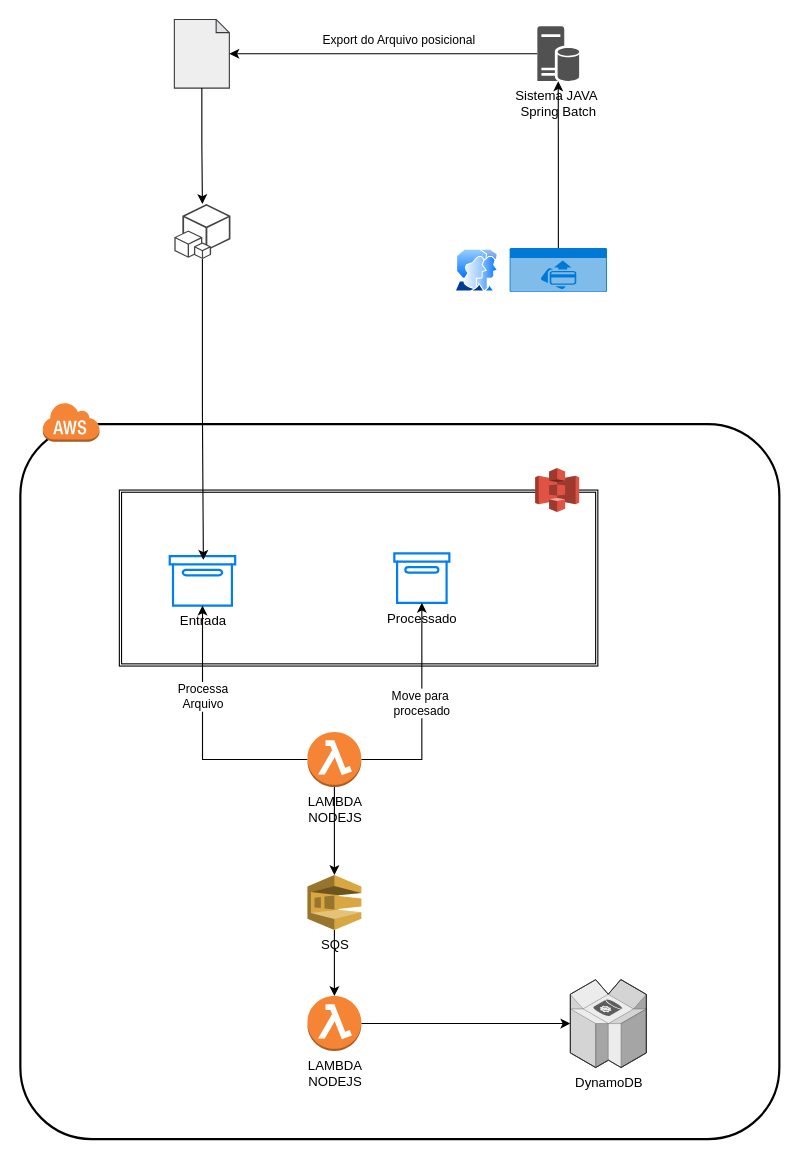
This 799x1159 diagram has some shape labels left out. The box of each missing label's shape, as (x1, y1, x2, y2) in pixels:
Arquivo Banco: (173, 18, 229, 88)
AWS CLI: (173, 203, 230, 259)
Bucket S3: (534, 467, 579, 512)
Payment: (509, 248, 606, 292)
